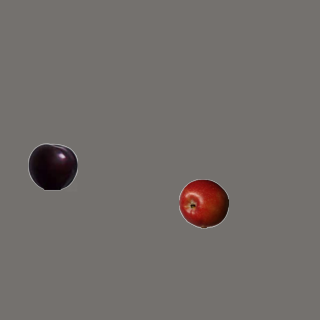Apple Braeburn: (178, 178, 228, 228)
Cherry Wax Black: (27, 141, 77, 191)
